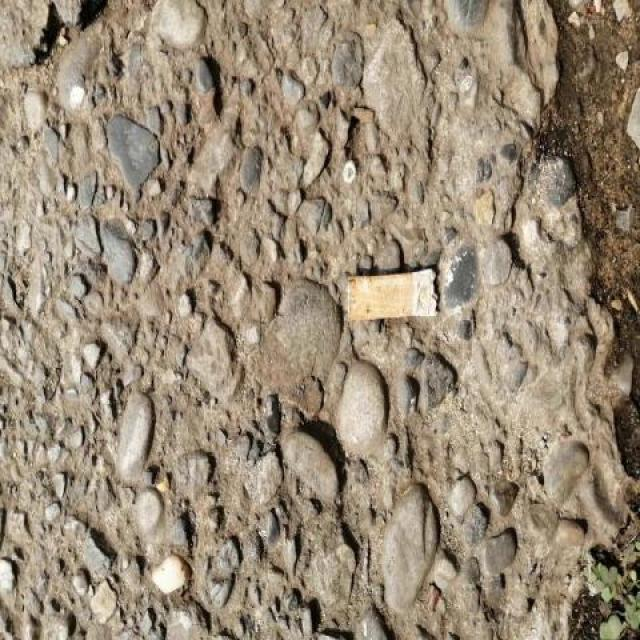non-organic waste: (342, 259, 446, 328)
